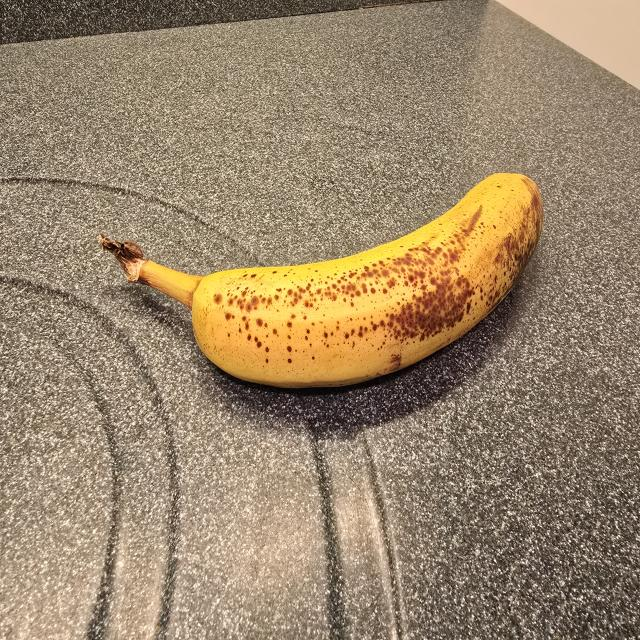Banana: (99, 173, 543, 387)
